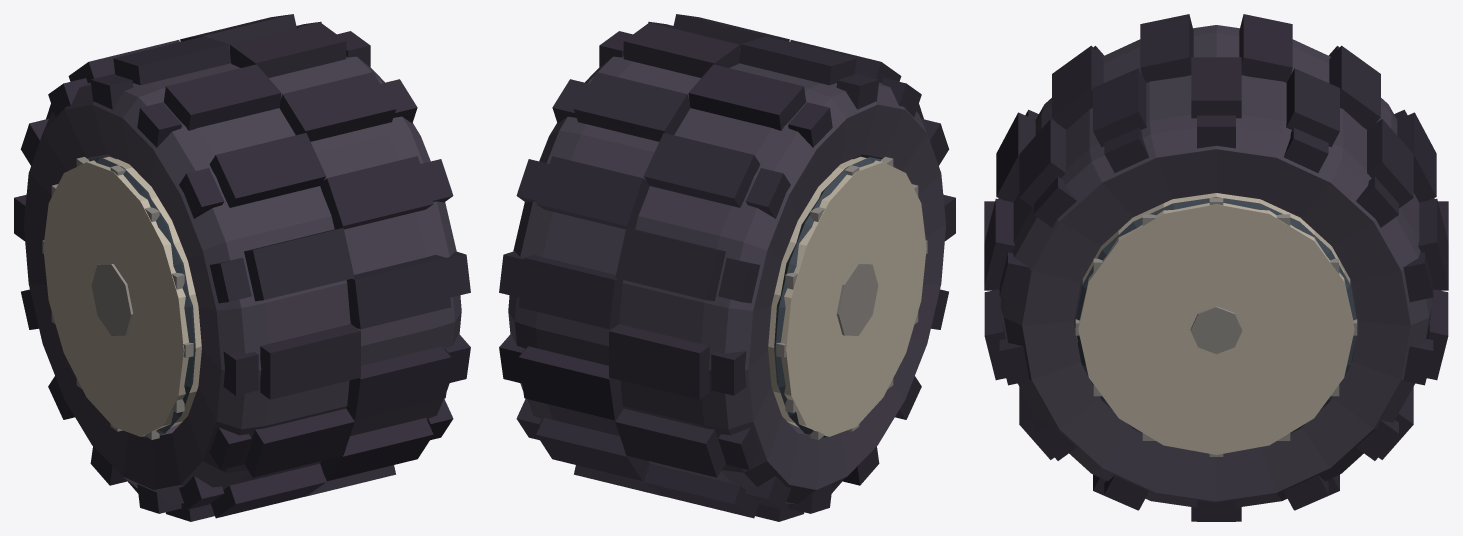
Rendered from serrano_wheels.glb.
3 views of the same model, side by side, from view 1: azimuth 30°, elevation 25°; view 2: azimuth 150°, elevation 25°; view 3: azimuth 270°, elevation 25° (orthographic).
Visible parts, largest first — view 1: serrano_wheel, serrano_rim; view 2: serrano_wheel, serrano_rim; view 3: serrano_wheel, serrano_rim.
Boxes of the visible parts, x1,y1,x2,y2 form: serrano_wheel: (14,14,470,521); serrano_rim: (42,156,201,439); serrano_wheel: (499,14,955,521); serrano_rim: (768,156,927,439); serrano_wheel: (984,14,1448,521); serrano_rim: (1075,193,1357,456).
Bounding box in the file's own units: 0.6496 × 1.01 × 1.01.
